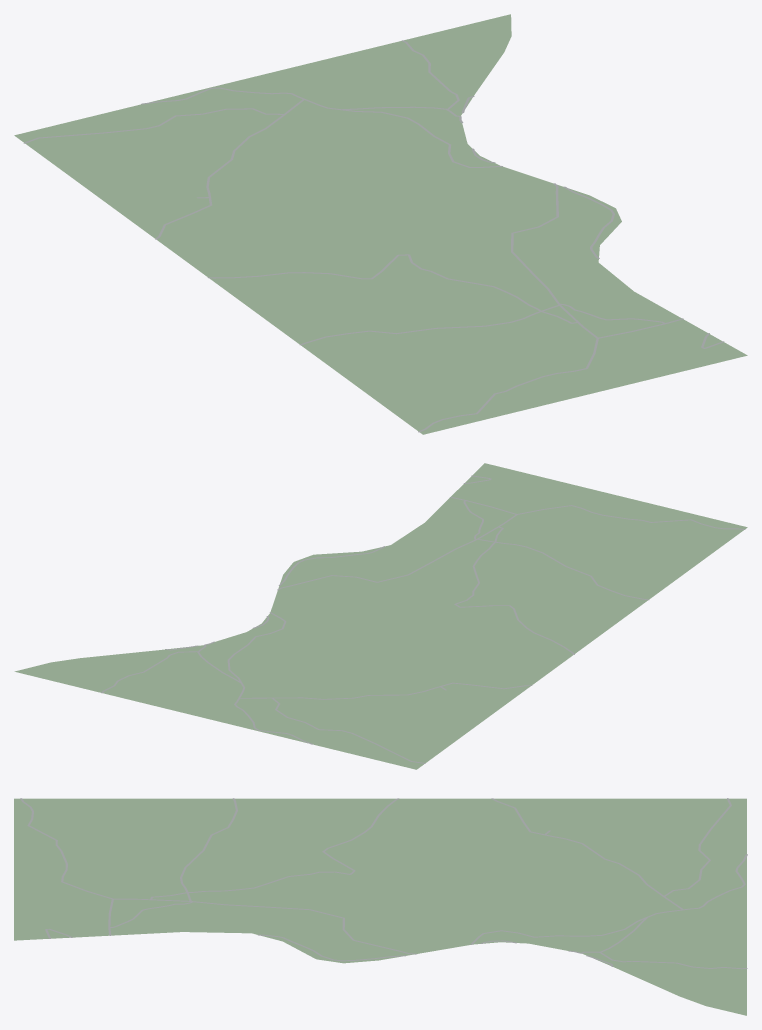
The model's file is -3_4-known-coarse.glb.
3 renders of one model, top to bottom at view 1: azimuth 30°, elevation 25°; view 2: azimuth 150°, elevation 25°; view 3: azimuth 270°, elevation 25°, orthographic. The views are drawn at different scales.
Size of the model in its own units: 699 by 0.1 by 996.
